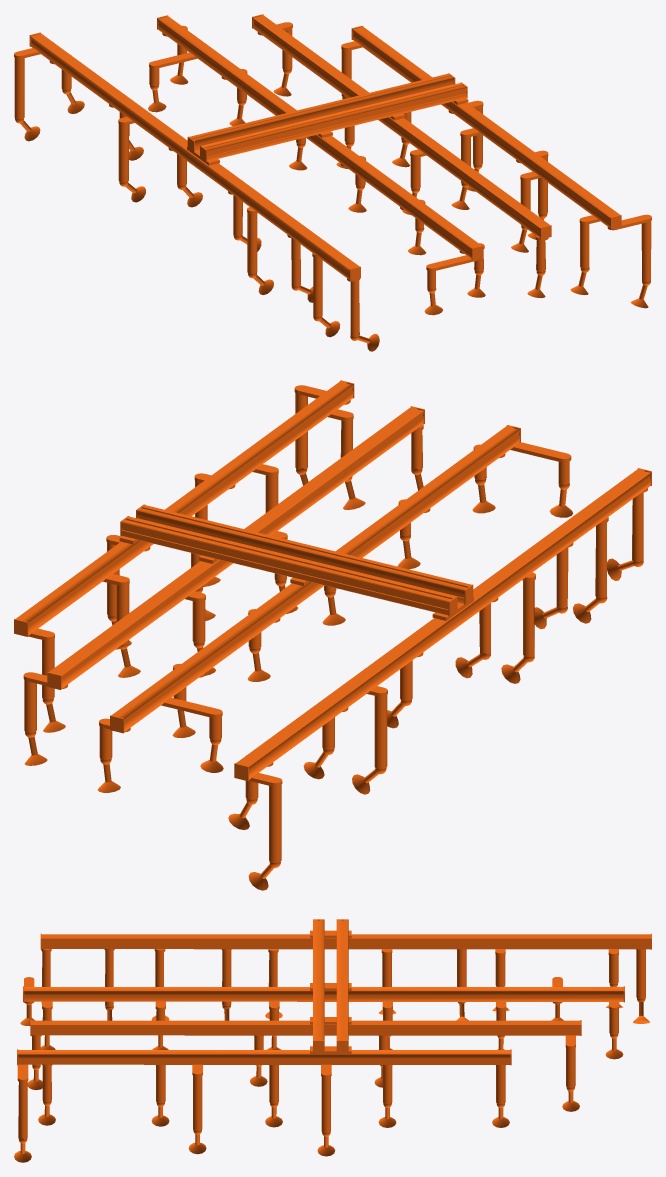
File: 移栽机-夹具.obj
3 renders of one model, top to bottom at view 1: azimuth 30°, elevation 25°; view 2: azimuth 150°, elevation 25°; view 3: azimuth 270°, elevation 25°, orthographic. The views are drawn at different scales.
Size of the model in its own units: 577 by 201 by 1068.
